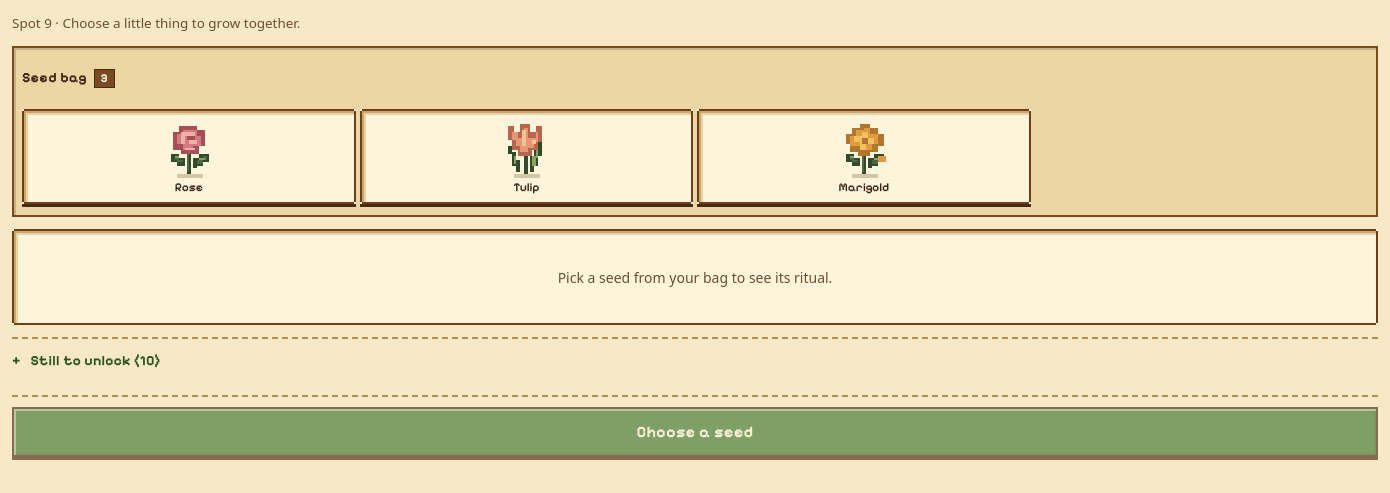
gives each seed slot its full name and describes the chosen seed in the item card
Expected: the text "Pick a seed from your bag to see its ritual." is shown, [558, 266, 832, 289]
Click the button named "Rose, Note about today. 5 growth units to bloom. 3 of 3 available to grow." at (189, 156), box [22, 109, 356, 204]
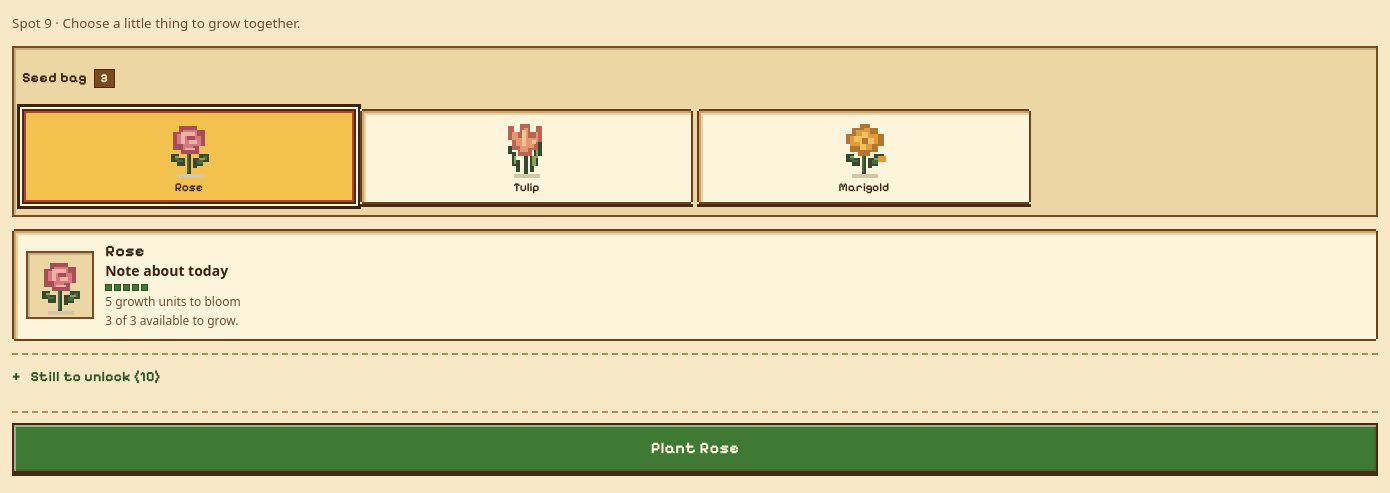
Expected: the element that starts with "Rose" is shown, [105, 241, 145, 260]
Expected: the element that starts with "Rose" shows "Note about today", [105, 261, 228, 280]
Expected: the element that starts with "Rose" shows "5 growth units to bloom", [105, 294, 241, 310]
